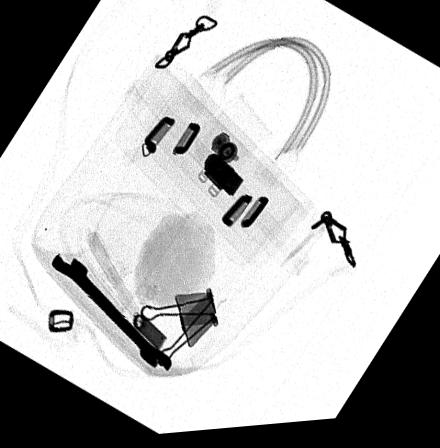Wrench: (48, 253, 172, 376)
